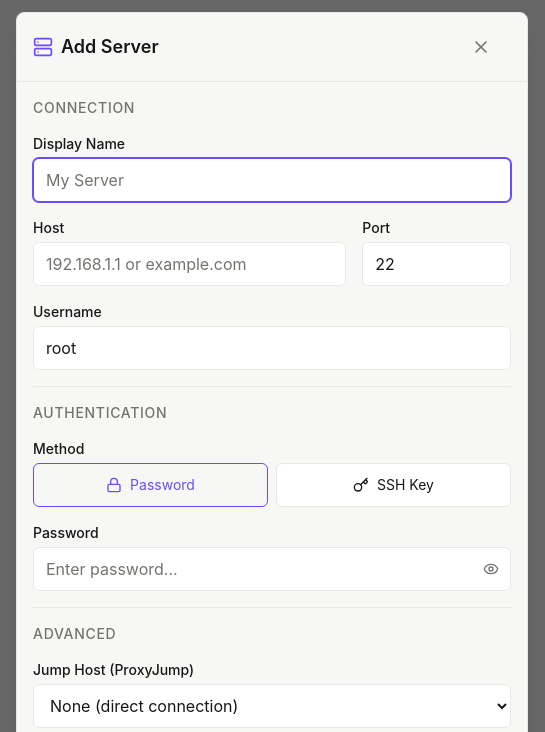
Scenario: AddServerDialog credential storage › uses pasted key content instead of a desktop file picker on mobile
Click the button "SSH Key".
click(394, 485)  # box [276,463,511,507]
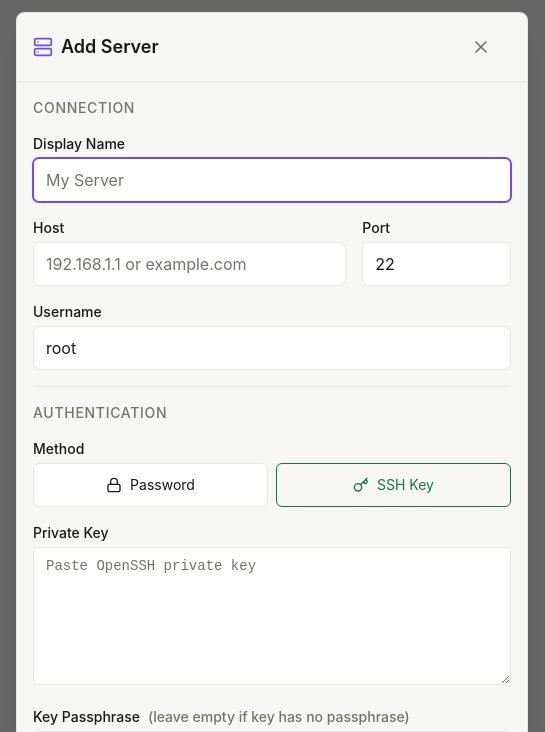
Expected: the text box labelled "Private Key" is shown, [33,547,511,685]
